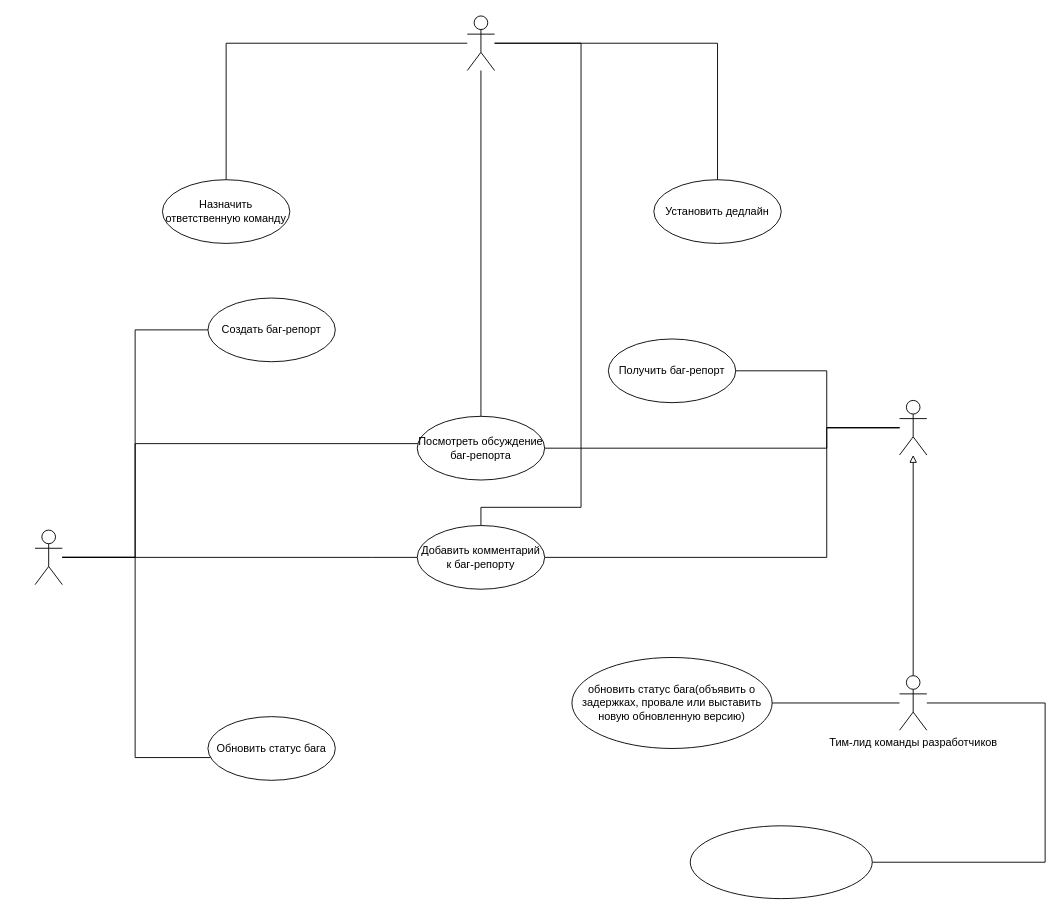
Image size: 1062x915. Some labels were removed from this diagram. Here are the shapes that lost their labels. From the top down, the box of each, then its label:
(466, 15, 495, 71): Руководитель проекта
(899, 399, 927, 455): Член команды разработки
(34, 529, 62, 585): Тестировщик
(689, 825, 872, 899): Назначить разработчика из своей команды на исправление бага
